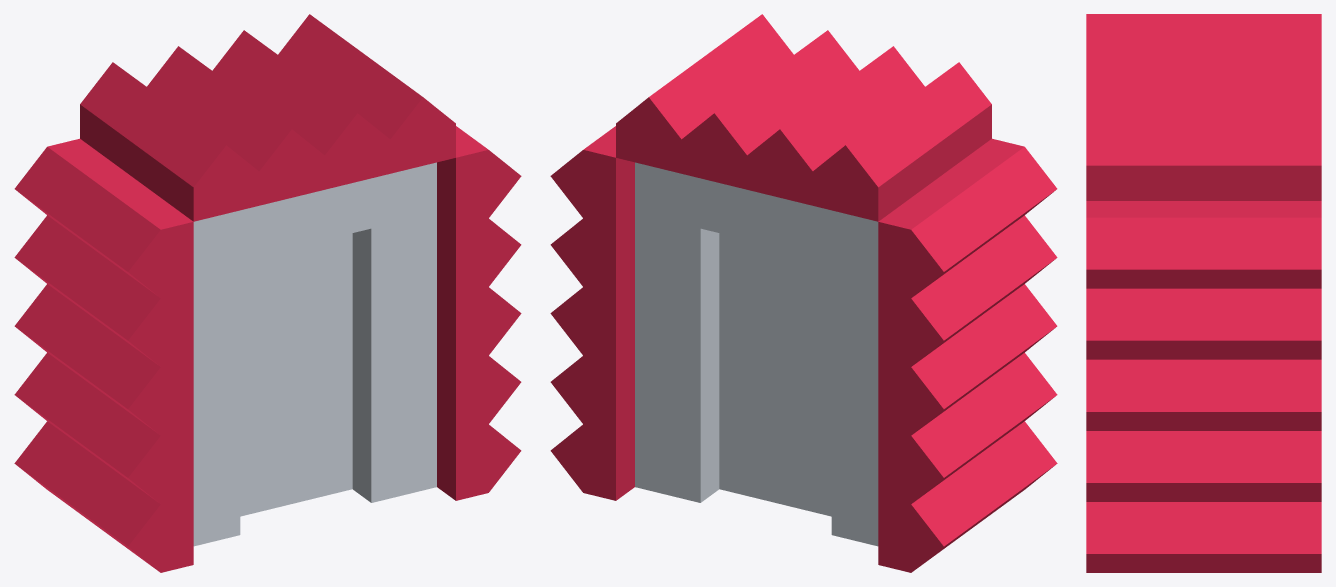
The model's file is bossdoor.fbx.
The picture shows the model from 3 angles, left to right: view 1: azimuth 30°, elevation 25°; view 2: azimuth 150°, elevation 25°; view 3: azimuth 270°, elevation 25°; orthographic projection. The views are drawn at different scales.
Parts seen in each view (by area): view 1: generated; view 2: generated; view 3: generated.
Boxes of the visible parts, bbox=[...] form: generated: bbox=[14, 14, 521, 572]; generated: bbox=[550, 14, 1057, 572]; generated: bbox=[1086, 14, 1321, 572].
Bounding box in the file's own units: 60 × 60 × 30.
